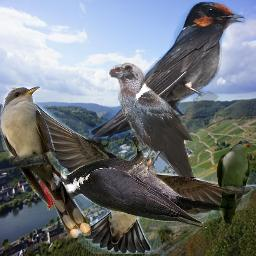Crow: (107, 62, 195, 177)
Cuckoo: (0, 86, 91, 238), (216, 139, 252, 223)
Swallow: (29, 98, 256, 254), (89, 1, 245, 138)
Woodpecker: (39, 137, 227, 229)
